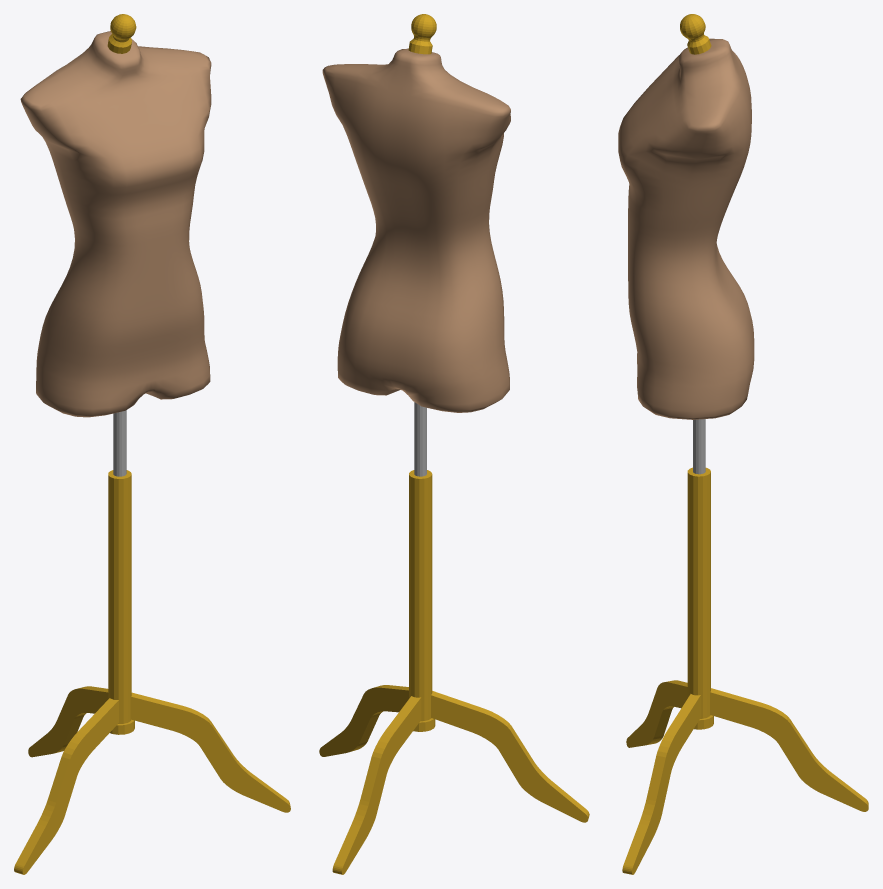
Rendered from mannequin .fbx.
The picture shows the model from 3 angles, left to right: view 1: azimuth 30°, elevation 25°; view 2: azimuth 150°, elevation 25°; view 3: azimuth 270°, elevation 25°; orthographic projection.
Visible parts, largest first — view 1: mannequin; view 2: mannequin; view 3: mannequin.
Boxes of the visible parts, x1,y1,x2,y2 form: mannequin: (14, 14, 290, 874); mannequin: (319, 14, 589, 874); mannequin: (618, 14, 868, 874).
Size of the model in its own units: 57.93 by 162 by 46.36.
